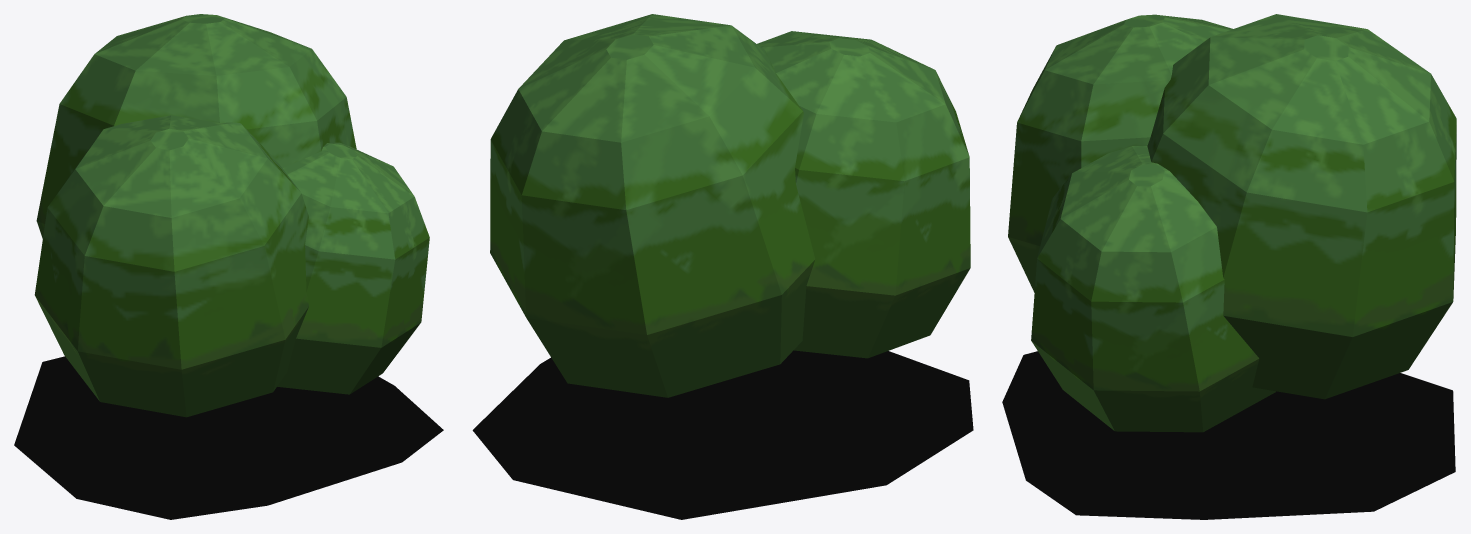
The model's file is Tree_003.fbx.
3 renders of one model, left to right at view 1: azimuth 30°, elevation 25°; view 2: azimuth 150°, elevation 25°; view 3: azimuth 270°, elevation 25°, orthographic. The views are drawn at different scales.
Visible parts, largest first — view 1: Tree_003_03, Shadow, Tree_003_01, Tree_003_02; view 2: Tree_003_01, Shadow, Tree_003_03; view 3: Tree_003_01, Shadow, Tree_003_02, Tree_003_03.
Part boxes in pixels (<box>): Tree_003_03: <box>34,115,308,417</box>; Shadow: <box>14,356,443,519</box>; Tree_003_01: <box>36,14,356,238</box>; Tree_003_02: <box>277,142,429,394</box>; Tree_003_01: <box>490,14,815,397</box>; Shadow: <box>472,350,973,519</box>; Tree_003_03: <box>757,31,970,358</box>; Tree_003_01: <box>1147,14,1456,399</box>; Shadow: <box>1002,351,1455,519</box>; Tree_003_02: <box>1031,146,1275,432</box>; Tree_003_03: <box>1008,14,1232,292</box>.
Size of the model in its own units: 2 by 1.96 by 2.
